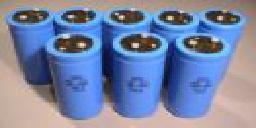Electrolytic-Capacitor: (166, 28, 231, 122), (109, 30, 167, 121), (47, 32, 106, 120), (199, 5, 248, 31), (101, 5, 149, 29), (5, 4, 51, 29), (154, 2, 195, 30), (57, 4, 94, 27)
